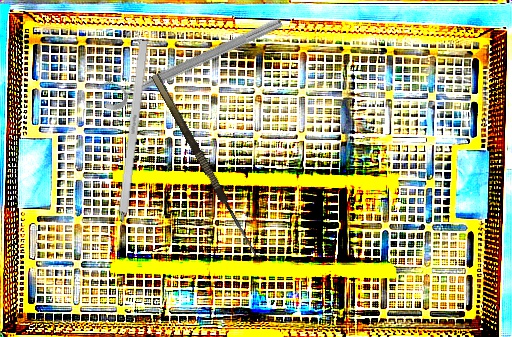Fixation Ring: (94, 3, 286, 115)
Hook Surgical: (151, 67, 270, 262), (113, 40, 149, 252)
